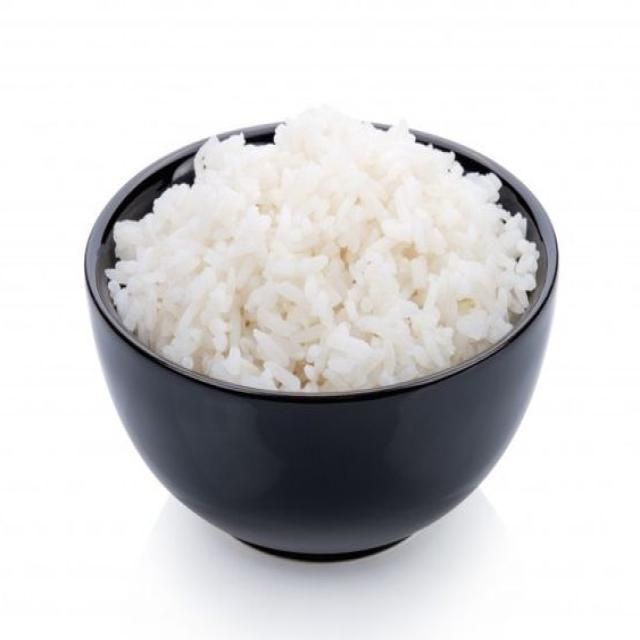nasi_putih: (80, 104, 556, 420)
